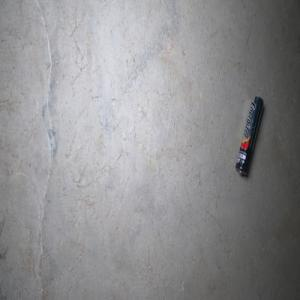Battery: (235, 95, 264, 177)
